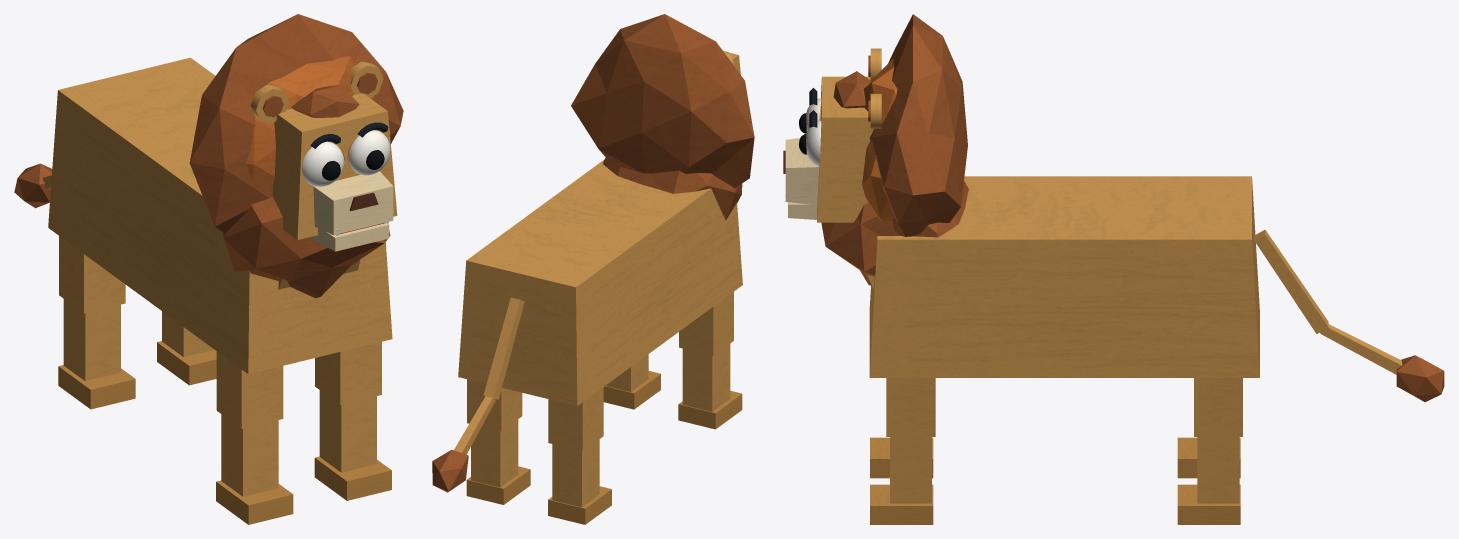
Rendered from lion.glb.
3 views of the same model, side by side, from view 1: azimuth 30°, elevation 25°; view 2: azimuth 150°, elevation 25°; view 3: azimuth 270°, elevation 25° (orthographic). The views are drawn at different scales.
Parts seen in each view (by area): view 1: body, head, neck, kneeFL, kneeFR, kneeBR, legFR, legFL, legBR, kneeBL, tail2, jaw (+2 smaller); view 2: body, head, kneeFR, kneeBR, kneeBL, legBR, neck, legFR, tail2, kneeFL, legBL, tail; view 3: body, head, kneeBL, kneeFL, neck, legFL, legBL, tail2, tail, kneeBR, kneeFR.
Boxes of the visible parts, x1,y1,x2,y2 form: body: [48, 57, 392, 374]; head: [189, 14, 403, 239]; neck: [223, 196, 390, 298]; kneeFL: [314, 390, 391, 500]; kneeFR: [216, 414, 293, 524]; kneeBR: [58, 299, 135, 409]; legFR: [216, 351, 283, 428]; legFL: [315, 341, 381, 404]; legBR: [59, 236, 125, 313]; kneeBL: [157, 311, 216, 385]; tail2: [14, 163, 52, 208]; jaw: [312, 222, 389, 251]; body: [458, 159, 742, 405]; head: [571, 14, 754, 187]; kneeFR: [678, 344, 742, 429]; kneeBR: [548, 439, 611, 524]; kneeBL: [466, 419, 530, 504]; legBR: [548, 387, 603, 451]; neck: [603, 157, 742, 220]; legFR: [679, 292, 733, 355]; tail2: [432, 396, 495, 492]; kneeFL: [603, 354, 660, 409]; legBL: [467, 379, 522, 431]; tail: [483, 297, 524, 399]; body: [869, 176, 1259, 377]; head: [783, 14, 967, 236]; kneeBL: [1177, 437, 1240, 524]; kneeFL: [870, 437, 933, 524]; neck: [821, 181, 968, 289]; legFL: [886, 378, 935, 436]; legBL: [1194, 378, 1242, 436]; tail2: [1320, 324, 1444, 401]; tail: [1254, 230, 1328, 333]; kneeBR: [1177, 437, 1240, 478]; kneeFR: [870, 437, 933, 478].
Size of the model in its own units: 0.7716 by 1.64 by 2.12.
24 materials, 21 textured.
